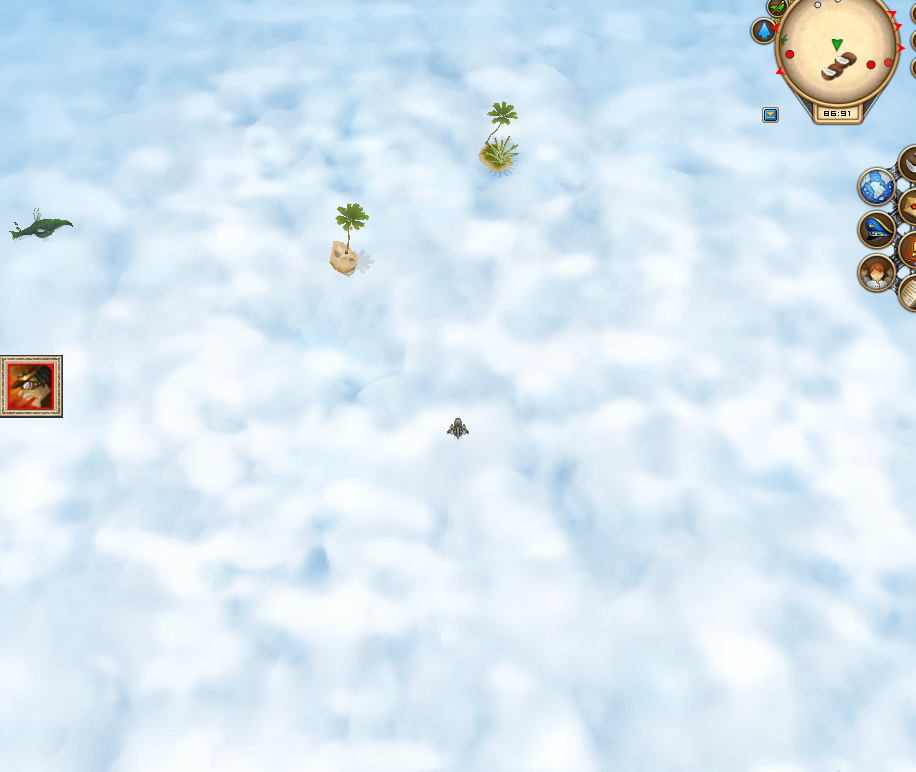palm: (316, 201, 371, 279), (474, 96, 522, 179)
